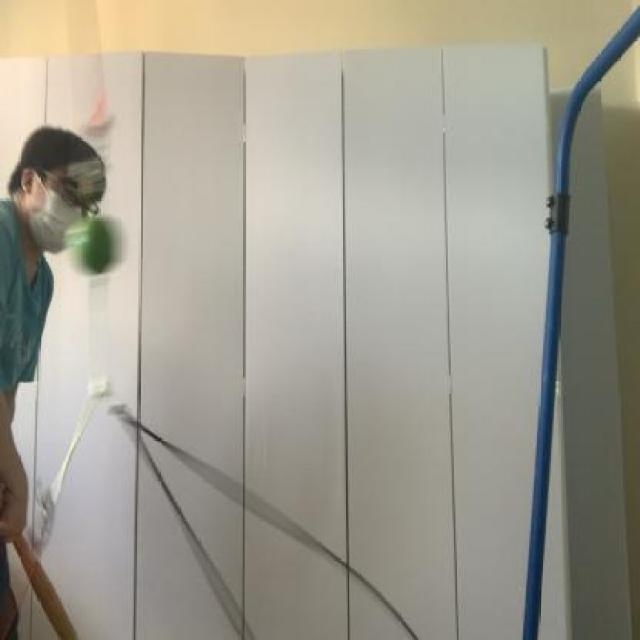baseball: (64, 208, 128, 289)
